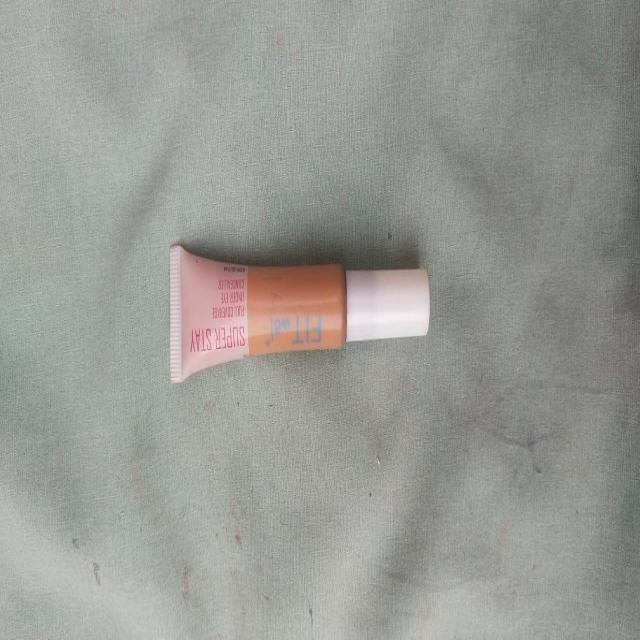bb cream: (160, 224, 442, 398)
